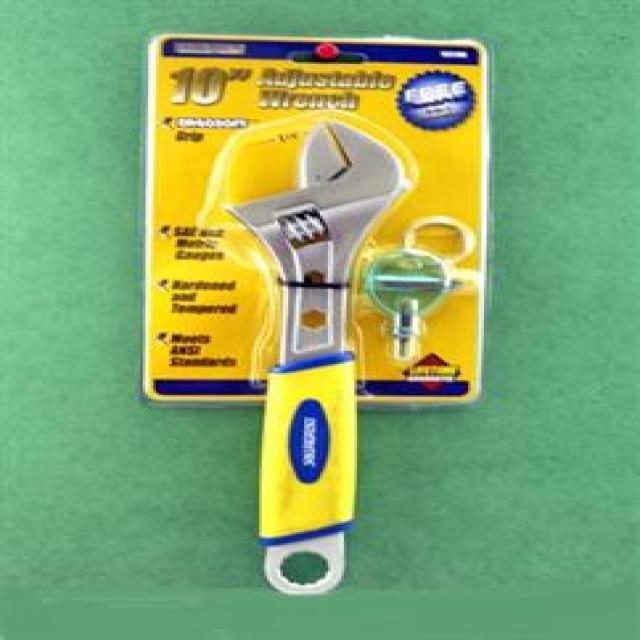wrench: (211, 113, 415, 596)
